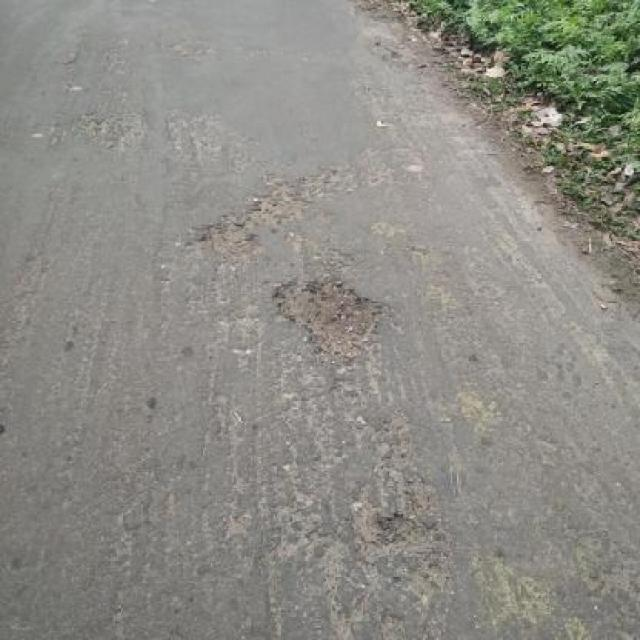Pothole: (269, 269, 388, 361), (200, 178, 308, 254), (375, 512, 427, 551)
